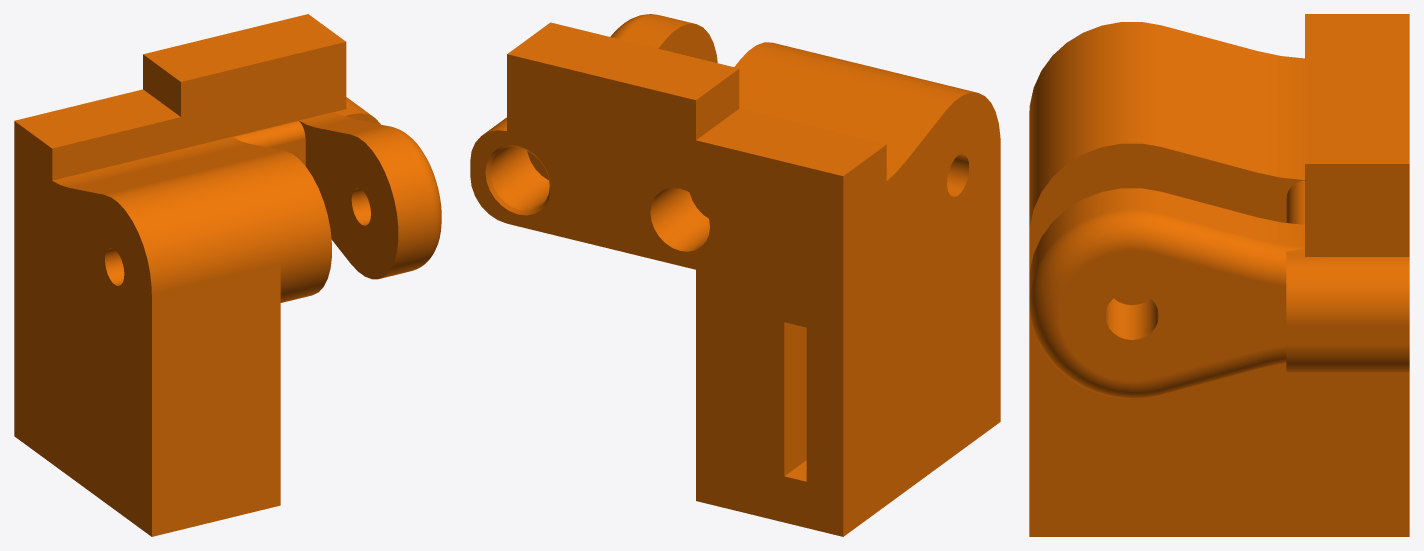
The model's file is Beam_End.glb.
3 renders of one model, left to right at view 1: azimuth 30°, elevation 25°; view 2: azimuth 150°, elevation 25°; view 3: azimuth 270°, elevation 25°, orthographic. The views are drawn at different scales.
Visible parts, largest first — view 1: Beam End; view 2: Beam End; view 3: Beam End.
Part boxes in pixels (x1,y1,x2,y2): Beam End: (14,14,441,536); Beam End: (470,14,1000,536); Beam End: (1029,14,1409,536).
Size of the model in its own units: 0.0506 by 0.052 by 0.037.
